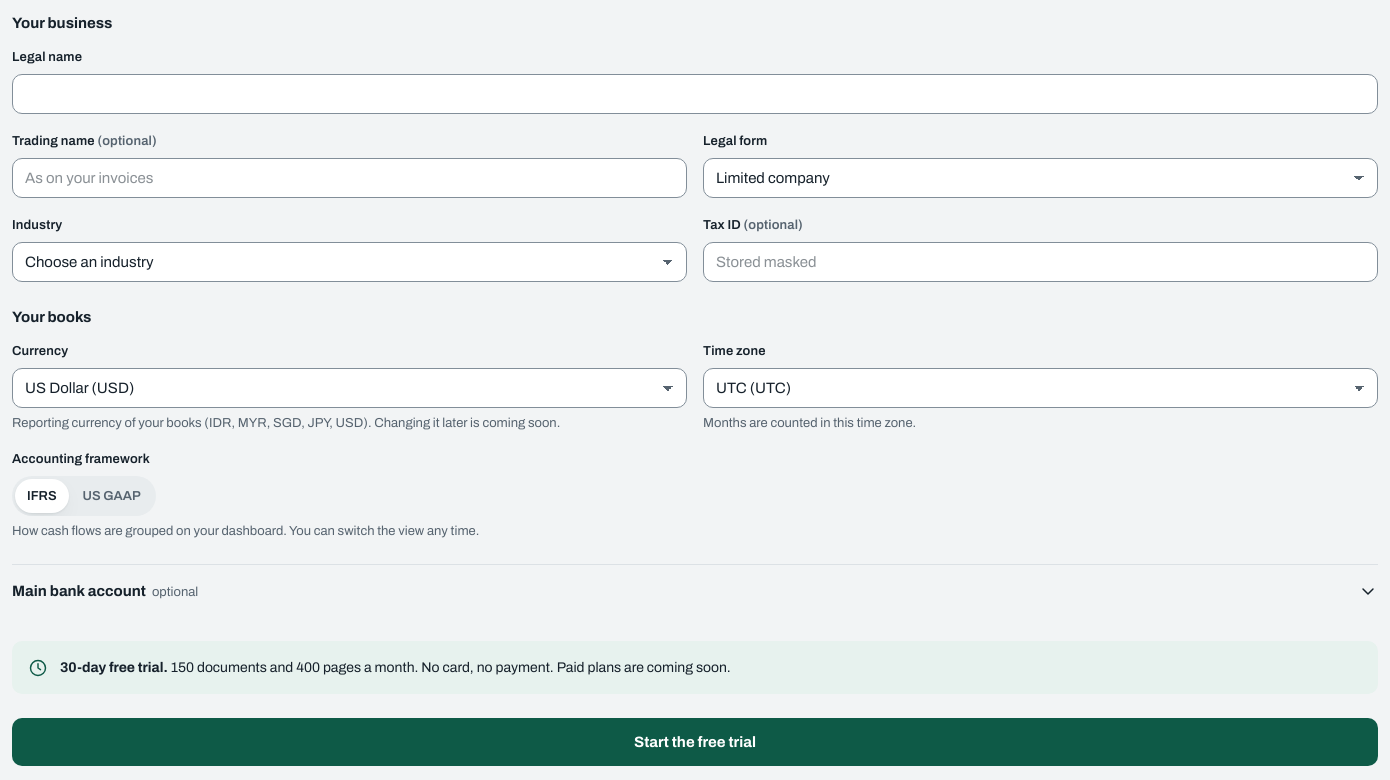
Test: CreateWorkspaceForm (AC-013-2) › shows SIGNUP_CLOSED in words (AC-013-3)
Type "Synthetic Roasters Ltd" into the field labelled "Legal name" at (695, 94), box [12, 74, 1378, 114]
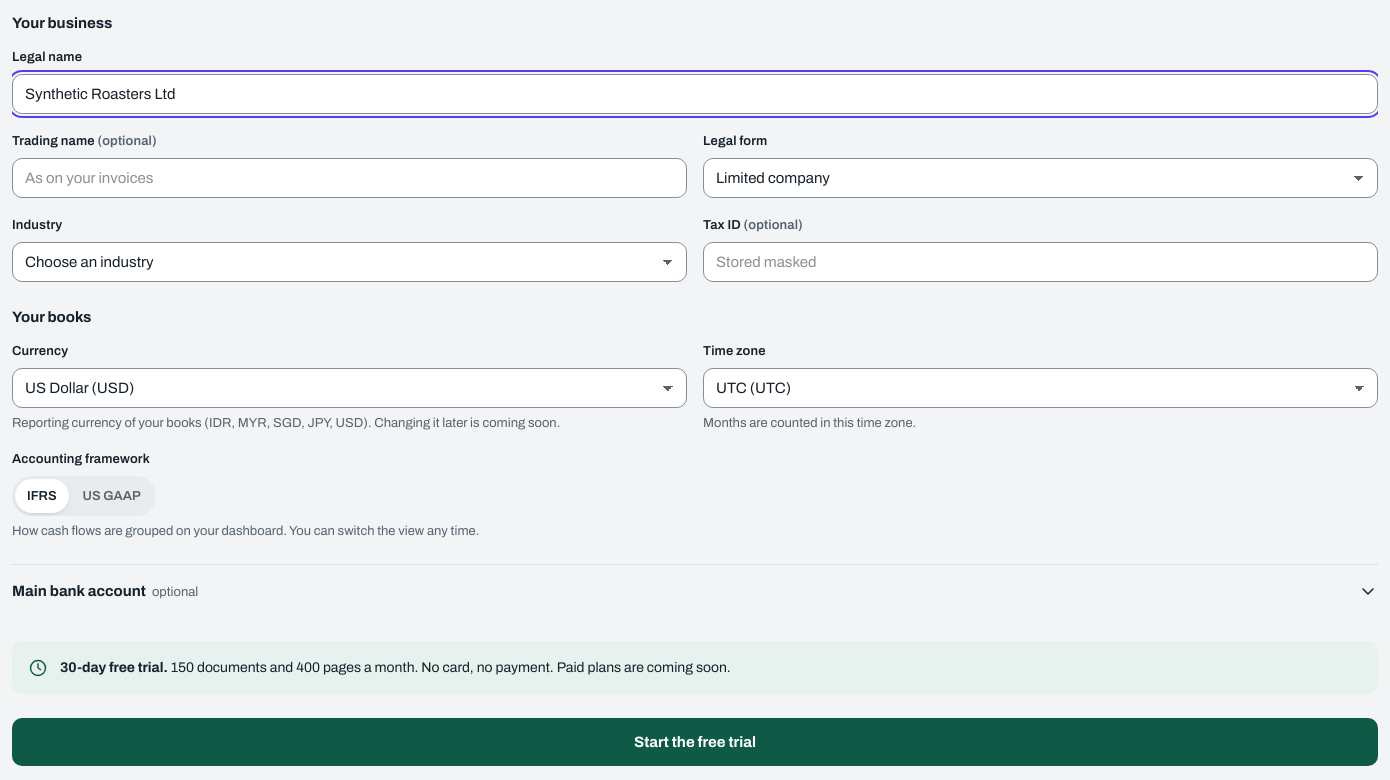
Click the button "Start the free trial" at (695, 742), box [12, 718, 1378, 766]
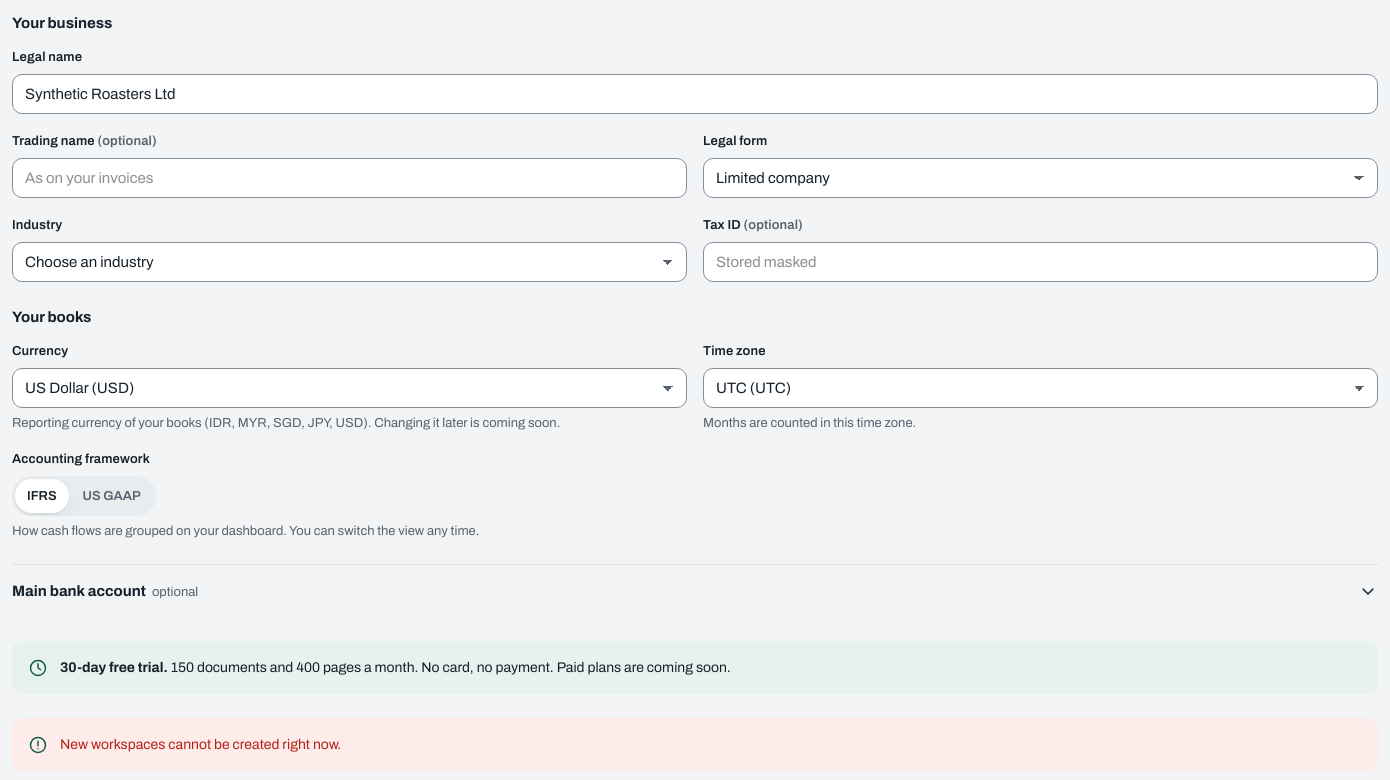
Expected: the message reads "New workspaces cannot be created right now.", [60, 737, 341, 752]
